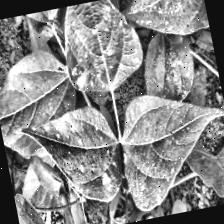Bean Rust: (114, 87, 224, 220), (22, 109, 130, 220), (55, 0, 149, 104), (123, 0, 211, 47)
